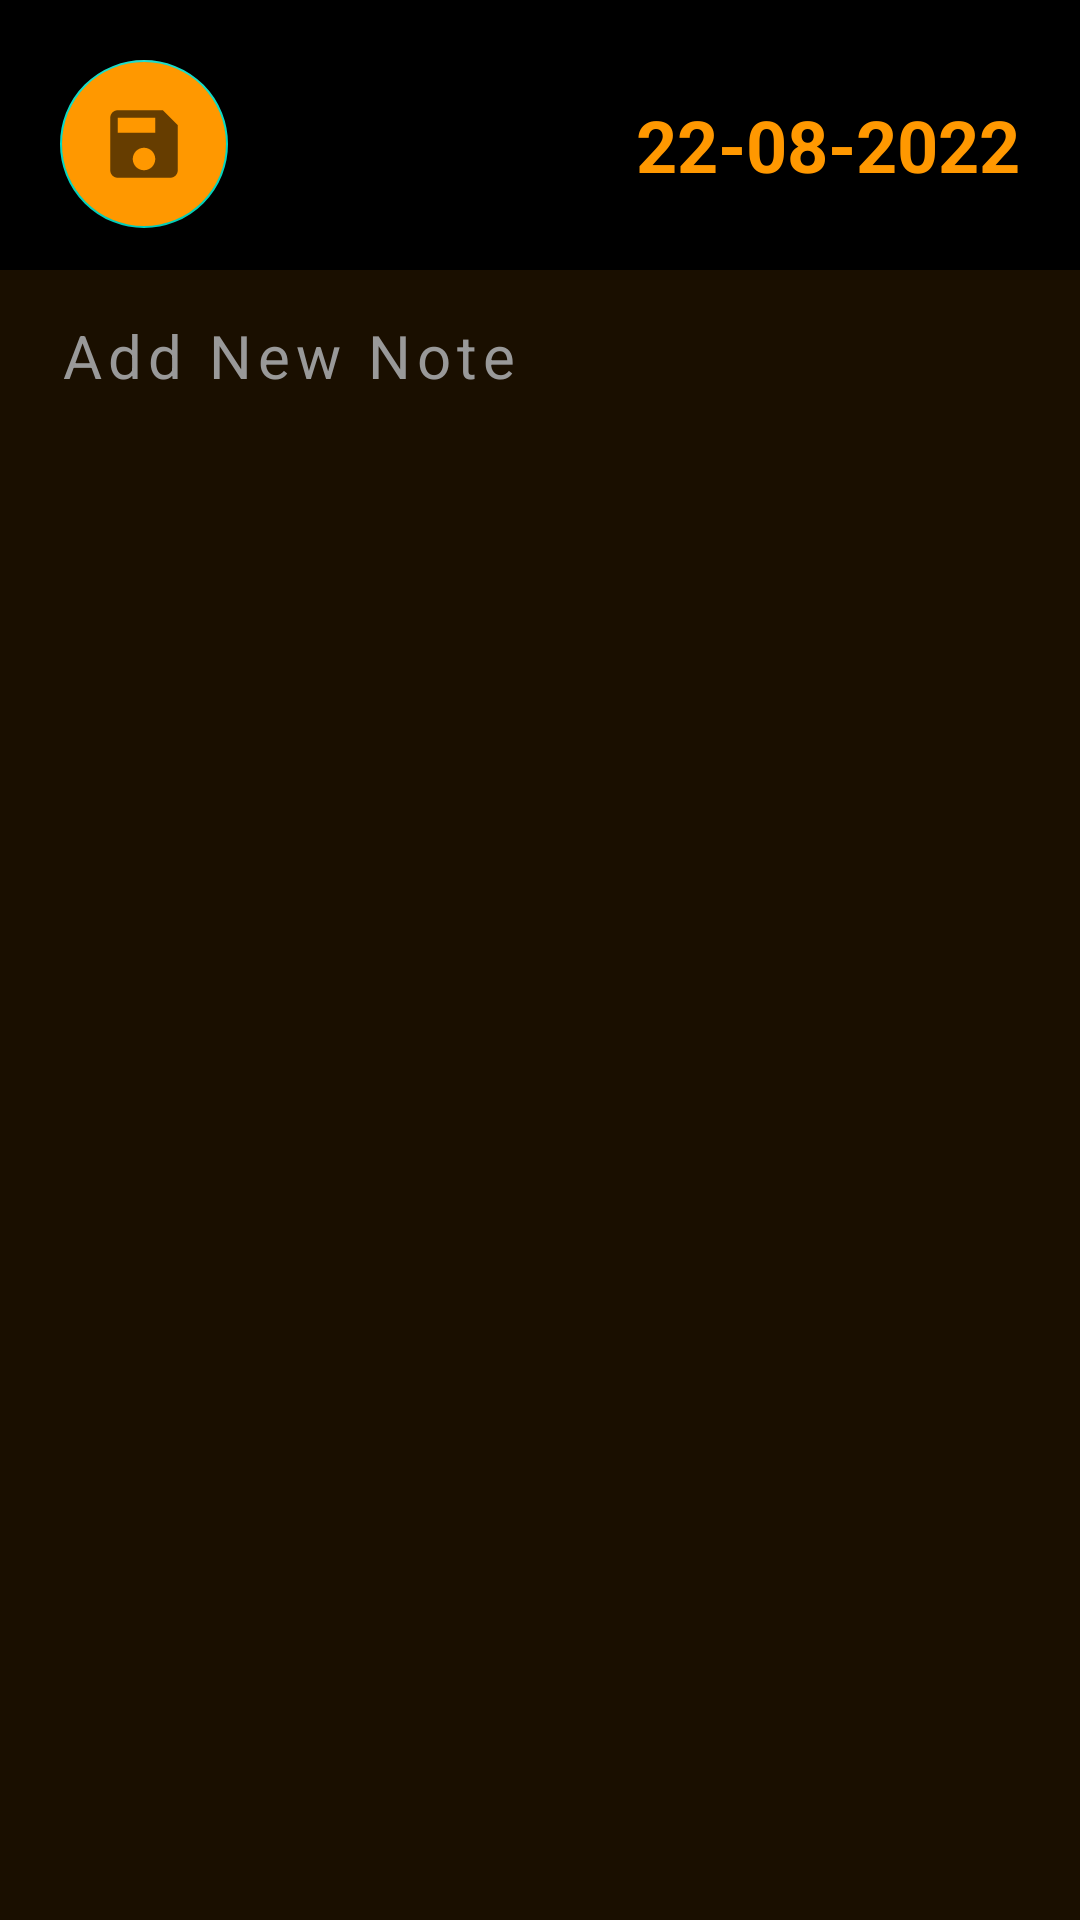

Named icons in this screenshot (1080*1920) and their bounding boxes, (x1=x1, y1=y1, x2=x2, y2=y2):
save: (x1=60, y1=60, x2=228, y2=228)
